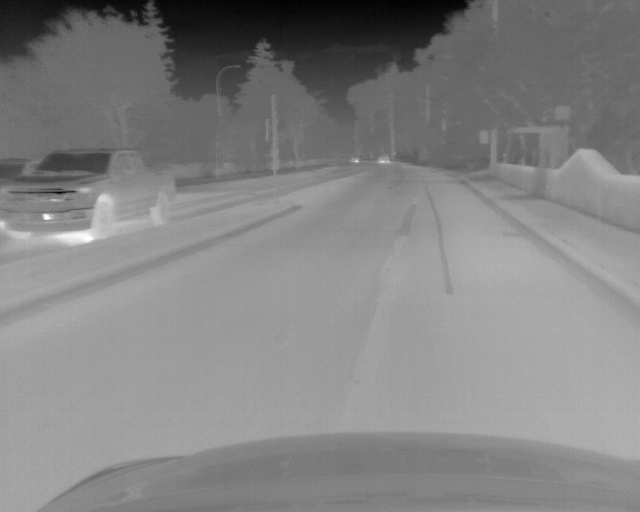car: (1, 148, 176, 240), (1, 156, 38, 184), (378, 154, 390, 165), (349, 154, 360, 164)
